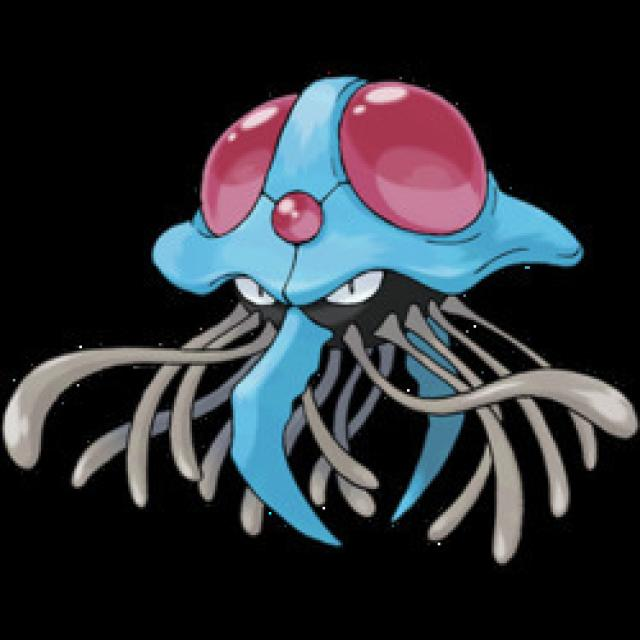Tentacruel: (151, 76, 522, 511)
